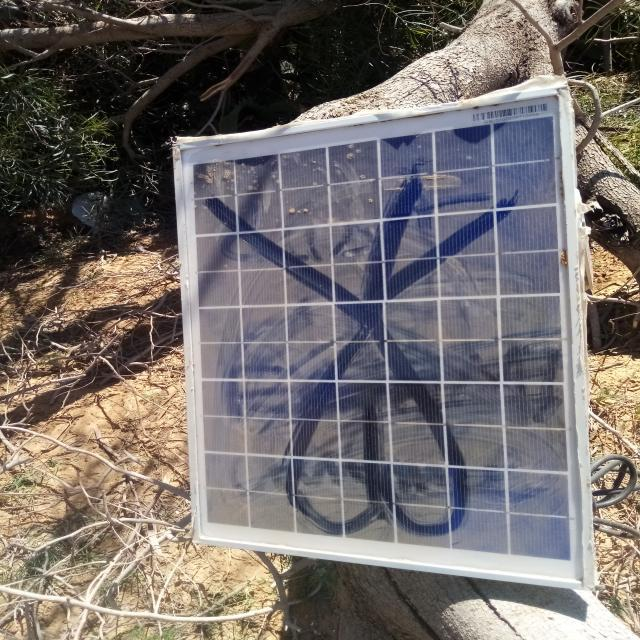faulty: (178, 92, 589, 588)
